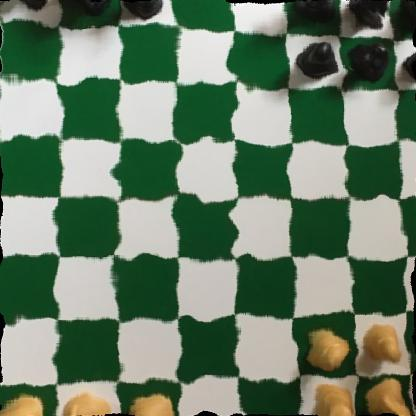black-bishop: (291, 0, 338, 31), (121, 0, 166, 21)
black-knight: (347, 0, 395, 33), (60, 0, 112, 19)
black-pawn: (345, 40, 391, 84), (293, 39, 341, 79), (399, 41, 416, 82)
black-rook: (0, 0, 55, 11), (398, 0, 416, 30)
white-bishop: (307, 378, 362, 416), (123, 386, 180, 416)
white-knight: (363, 376, 415, 416), (54, 391, 107, 416)
white-pawn: (296, 323, 349, 369), (360, 319, 402, 370)
white-rook: (0, 390, 51, 416)
